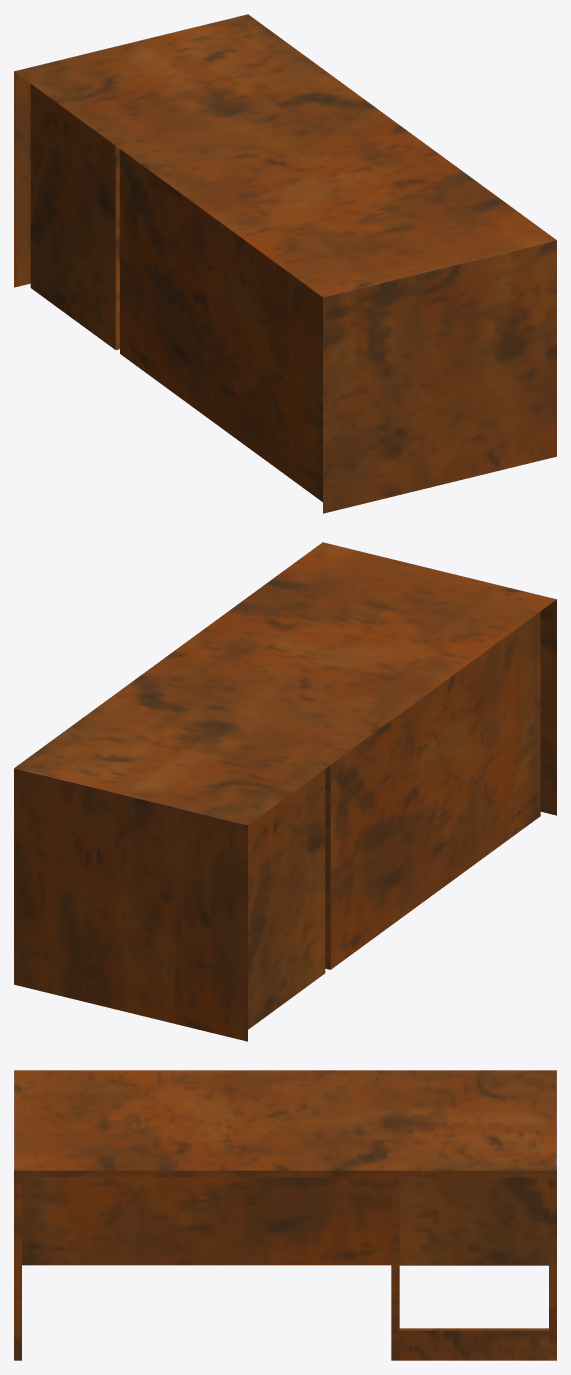
File: Desk_SM.fbx
The picture shows the model from 3 angles, top to bottom: view 1: azimuth 30°, elevation 25°; view 2: azimuth 150°, elevation 25°; view 3: azimuth 270°, elevation 25°; orthographic projection. The views are drawn at different scales.
Parts seen in each view (by area): view 1: Box002; view 2: Box002; view 3: Box002.
Part boxes in pixels (x1=…): Box002: x1=14, y1=14, x2=556, y2=513; Box002: x1=14, y1=542, x2=556, y2=1041; Box002: x1=14, y1=1070, x2=556, y2=1360.
Size of the model in its own units: 113 by 100 by 259.
1 material, 1 textured.
